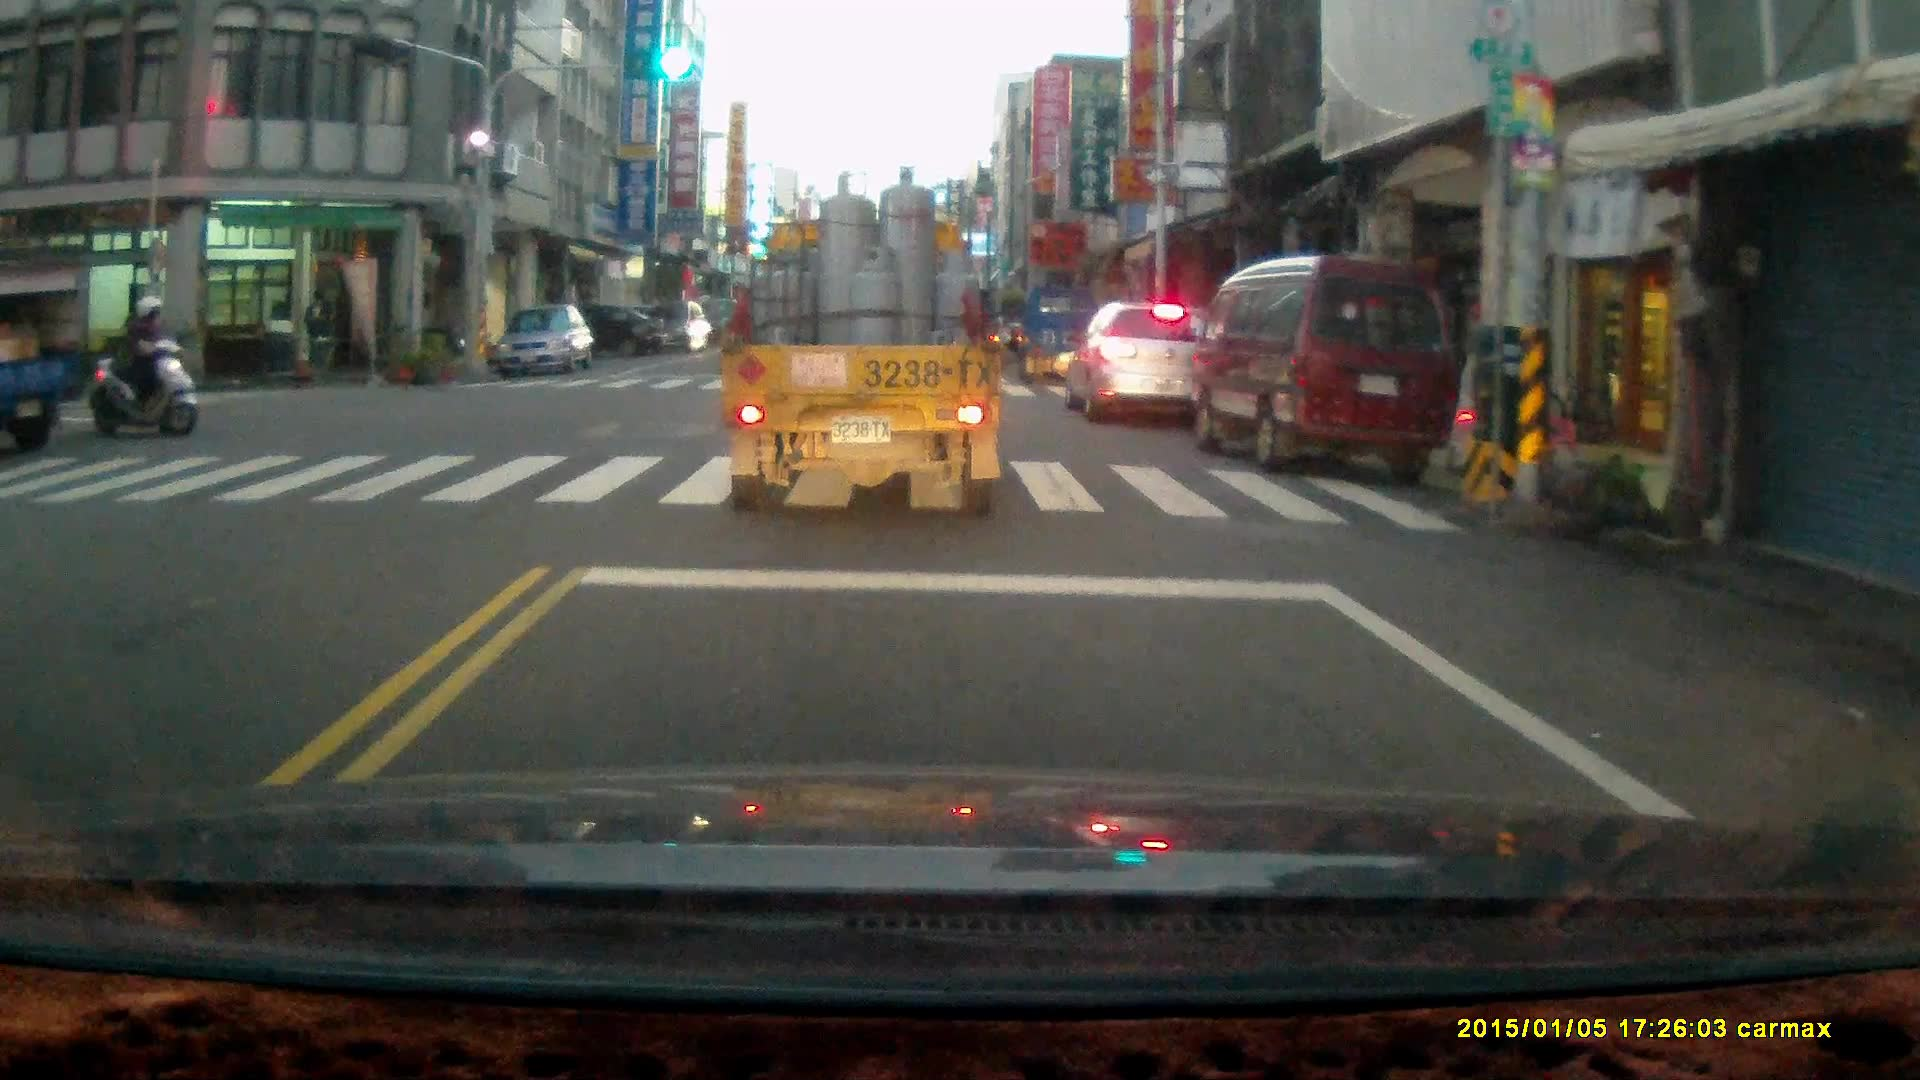pedestrian: (300, 285, 334, 387)
rider: (83, 291, 197, 432)
vehicle: (723, 162, 1008, 512), (1200, 248, 1469, 476), (1069, 289, 1233, 428), (1, 247, 84, 450), (1019, 283, 1104, 386), (492, 302, 596, 383), (532, 297, 666, 358), (624, 299, 712, 352)
